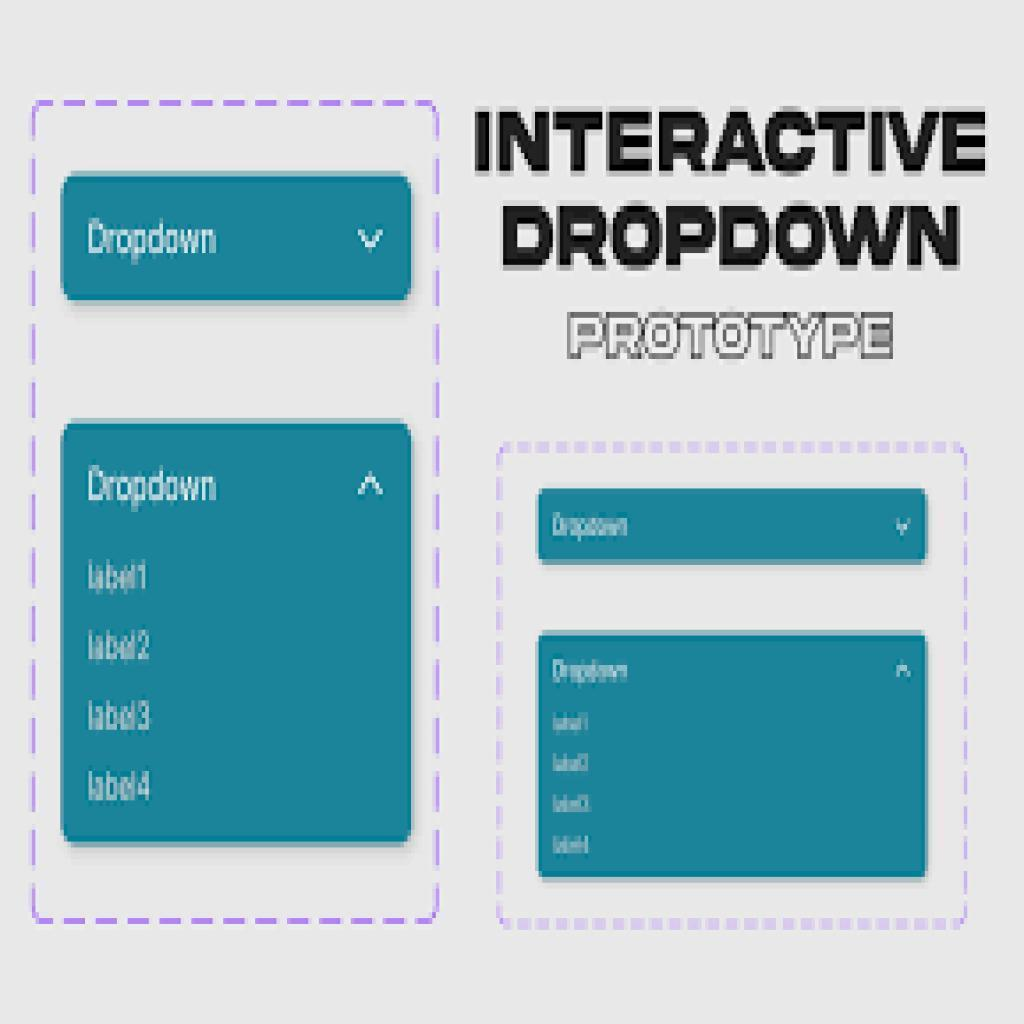dropdown: (62, 178, 413, 298), (538, 489, 926, 564)
